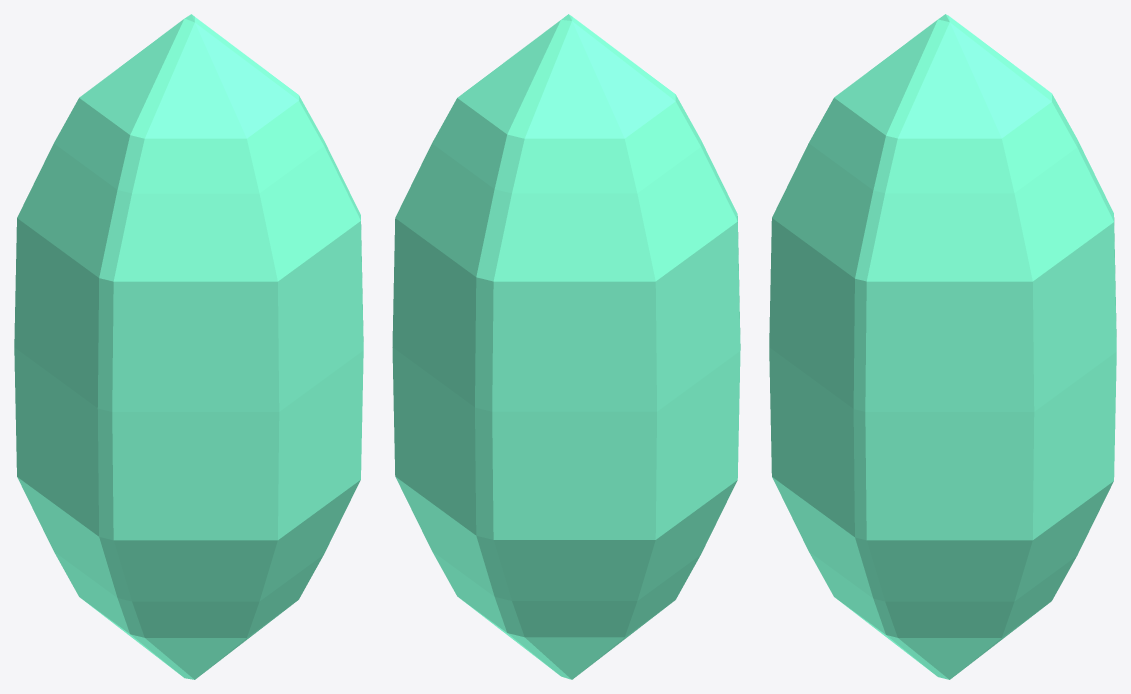
File: intelligem.glb
3 renders of one model, left to right at view 1: azimuth 30°, elevation 25°; view 2: azimuth 150°, elevation 25°; view 3: azimuth 270°, elevation 25°, orthographic.
Visible parts, largest first — view 1: Intelligem; view 2: Intelligem; view 3: Intelligem.
Part boxes in pixels (x1,y1,x2,y2): Intelligem: (14, 14, 363, 679); Intelligem: (392, 14, 740, 679); Intelligem: (769, 14, 1116, 679).
Bounding box in the file's own units: 1.97 × 4.73 × 2.24.
